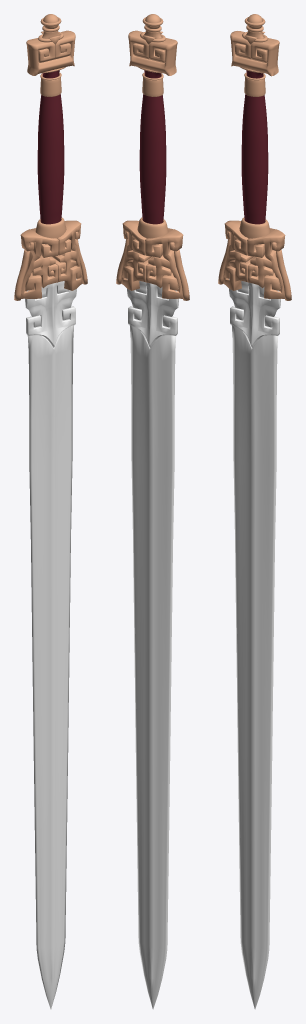
File: KunWu_Sword2.fbx
The picture shows the model from 3 angles, left to right: view 1: azimuth 30°, elevation 25°; view 2: azimuth 150°, elevation 25°; view 3: azimuth 330°, elevation 25°; orthographic projection.
Parts seen in each view (by area): view 1: sword_blade, sword_defend, sword_handle, sword_component2, sword_component1, sword_component8; view 2: sword_blade, sword_defend, sword_handle, sword_component2, sword_component1, sword_component8; view 3: sword_blade, sword_defend, sword_handle, sword_component2, sword_component1, sword_component8.
Boxes of the visible parts, x1,y1,x2,y2 form: sword_blade: (25,278,76,1009); sword_defend: (14,220,87,300); sword_handle: (37,70,64,224); sword_component2: (26,30,75,75); sword_component1: (35,217,66,238); sword_component8: (40,77,61,96); sword_blade: (127,278,178,1009); sword_defend: (116,220,189,300); sword_handle: (139,70,166,224); sword_component2: (128,30,177,75); sword_component1: (137,217,168,238); sword_component8: (142,77,163,96); sword_blade: (229,278,280,1009); sword_defend: (218,220,291,300); sword_handle: (241,70,268,224); sword_component2: (230,31,279,76); sword_component1: (239,217,270,238); sword_component8: (244,77,265,96).
Size of the model in its own units: 37.16 by 486 by 15.29.
